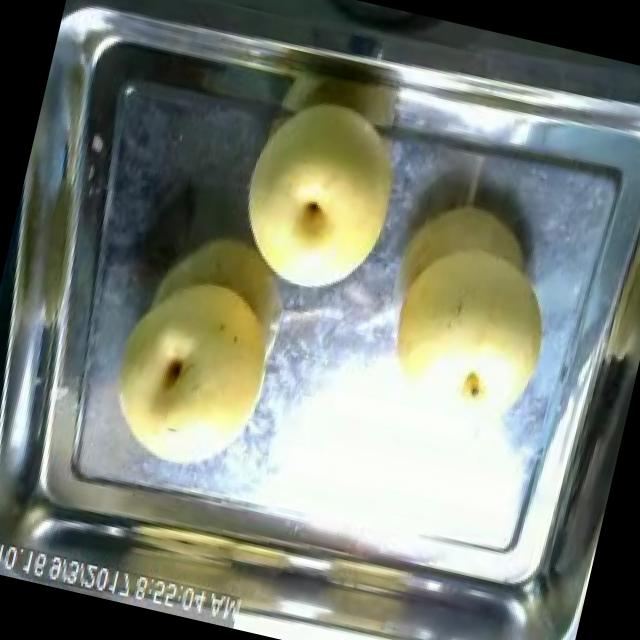Fruit: (364, 183, 578, 427), (86, 254, 296, 491), (217, 78, 423, 314)
